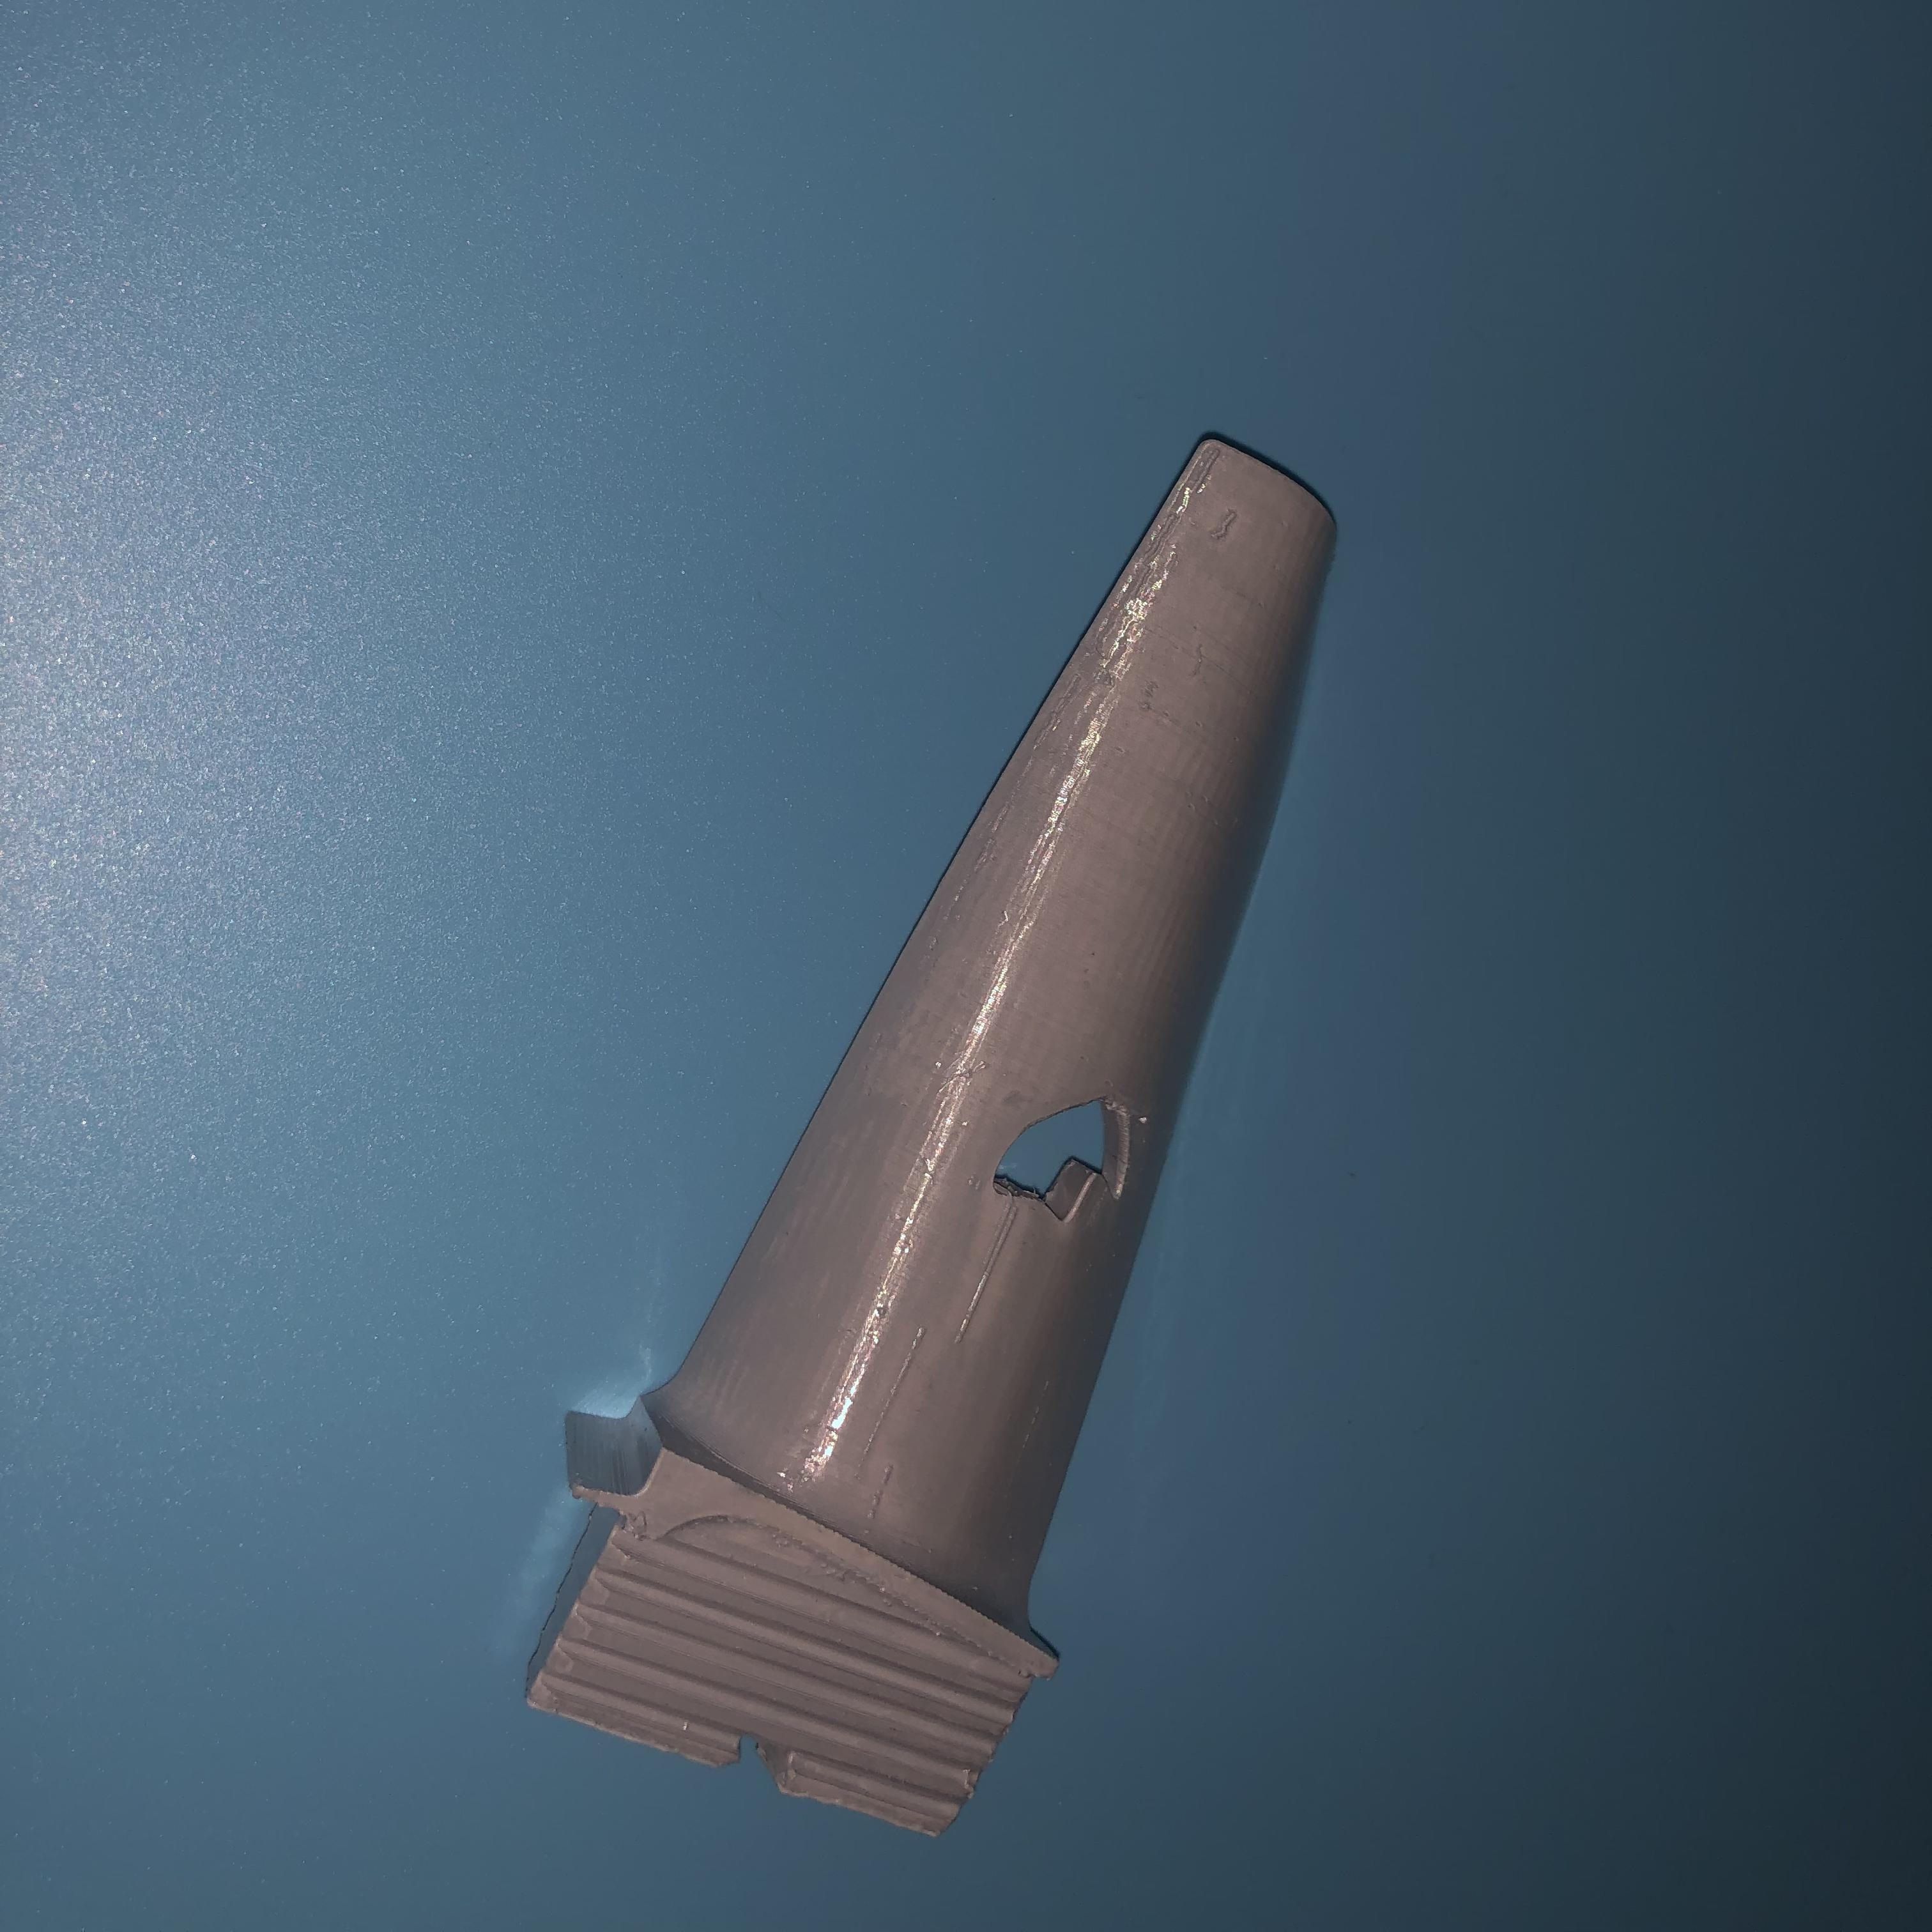breakdown: (1008, 1090, 1145, 1246)
